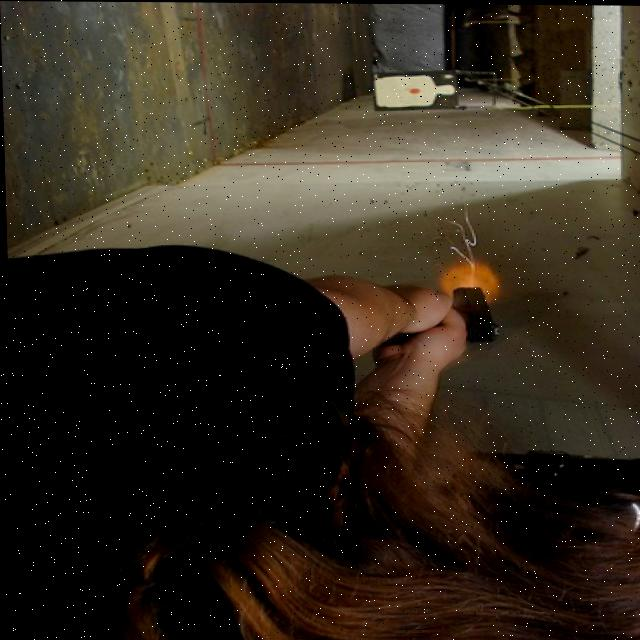pistol: (450, 284, 503, 341)
